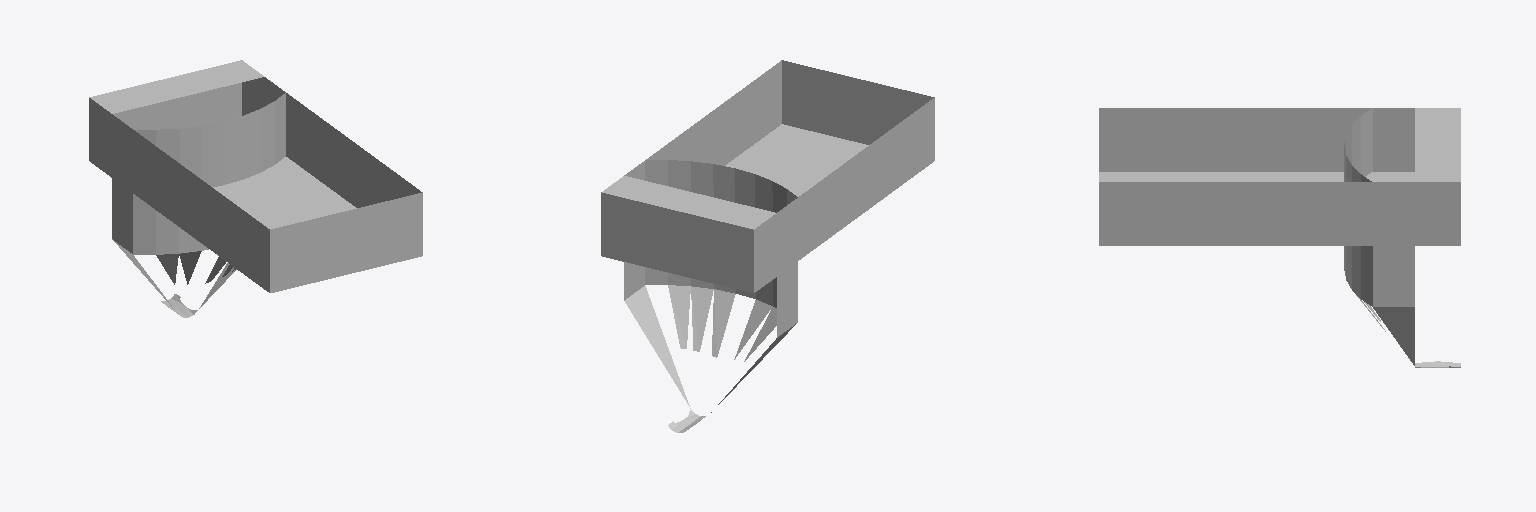
File: 181014 Grip2.obj
3 views of the same model, side by side, from view 1: azimuth 30°, elevation 25°; view 2: azimuth 150°, elevation 25°; view 3: azimuth 270°, elevation 25° (orthographic).
Size of the model in its own units: 0.025 by 0.0348 by 0.0512.